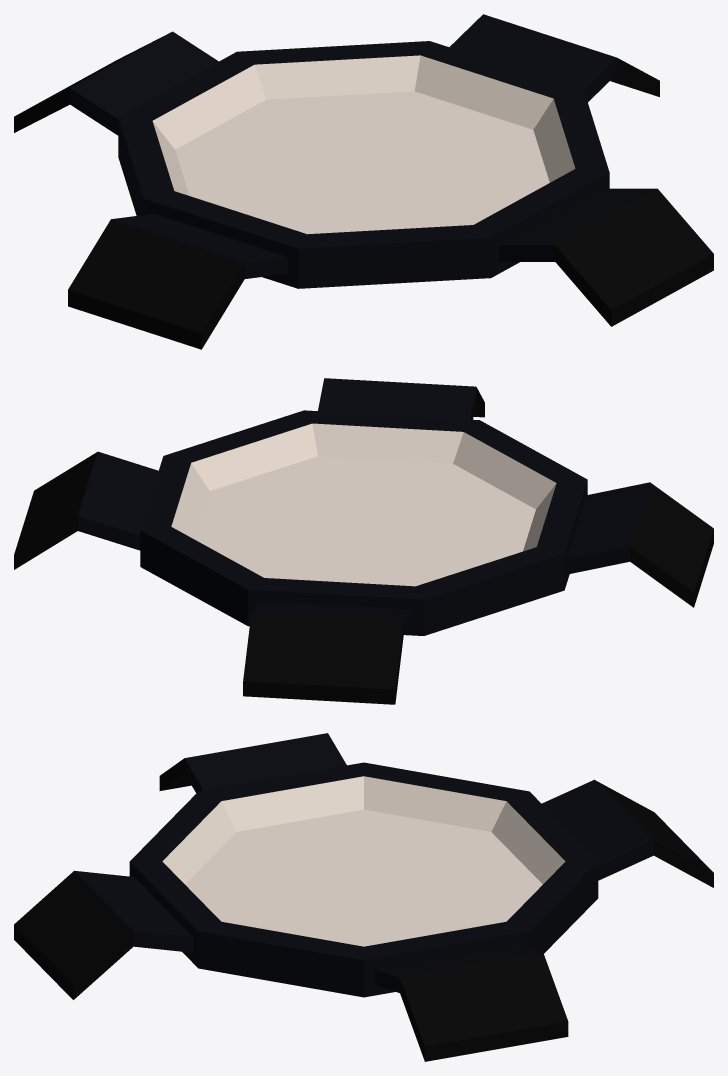
Rendered from Landing zone.FBX.
3 renders of one model, top to bottom at view 1: azimuth 30°, elevation 25°; view 2: azimuth 150°, elevation 25°; view 3: azimuth 270°, elevation 25°, orthographic. The views are drawn at different scales.
Visible parts, largest first — view 1: Cylinder001; view 2: Cylinder001; view 3: Cylinder001.
Boxes of the visible parts, left/top/right/bottom form: Cylinder001: left=14, top=14, right=713, bottom=349; Cylinder001: left=14, top=378, right=713, bottom=704; Cylinder001: left=14, top=733, right=713, bottom=1061.
Bounding box in the file's own units: 157 × 14.42 × 157.
